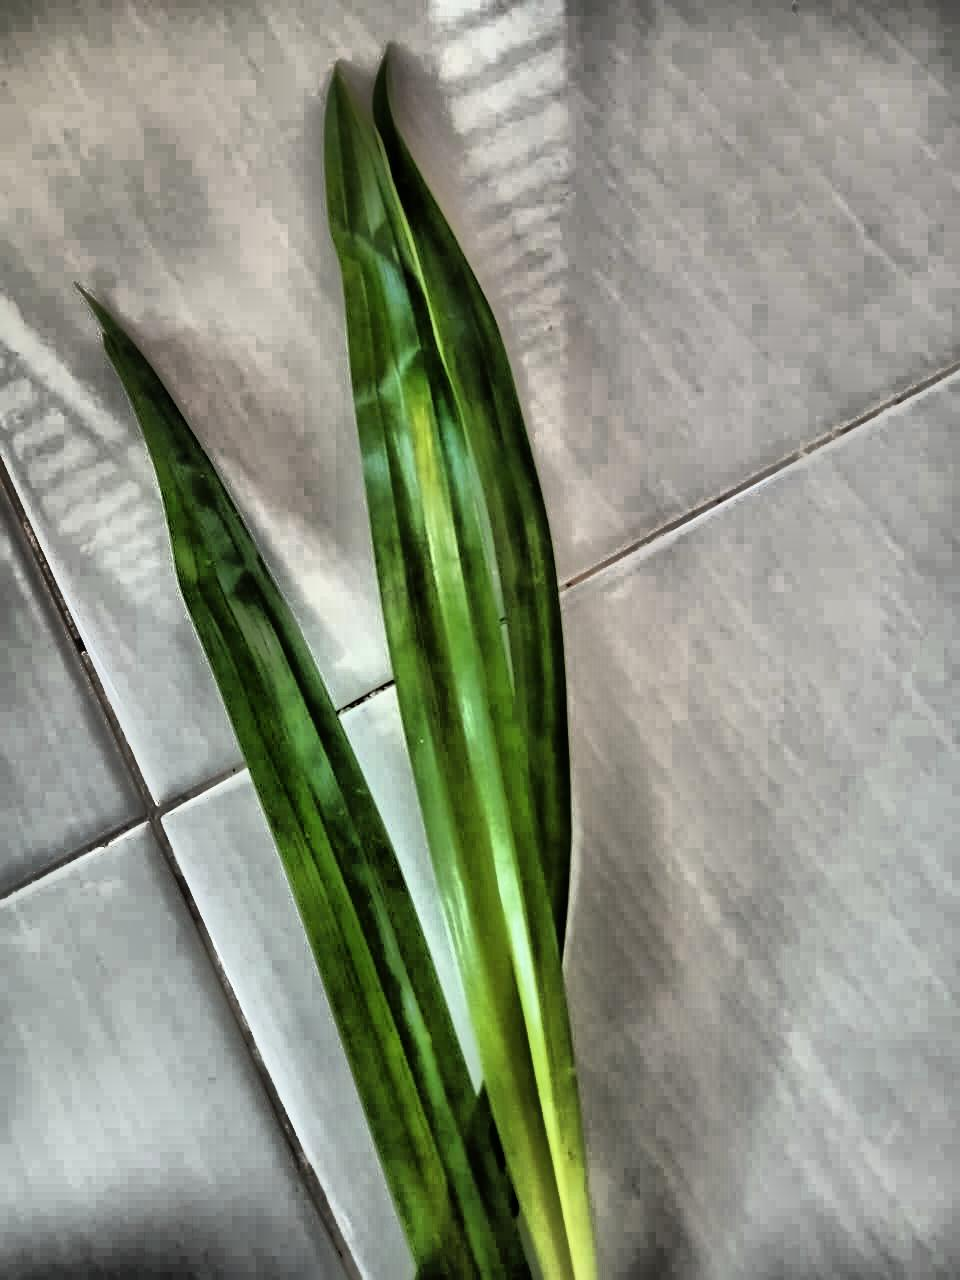daun pandan: (85, 55, 597, 1279)
